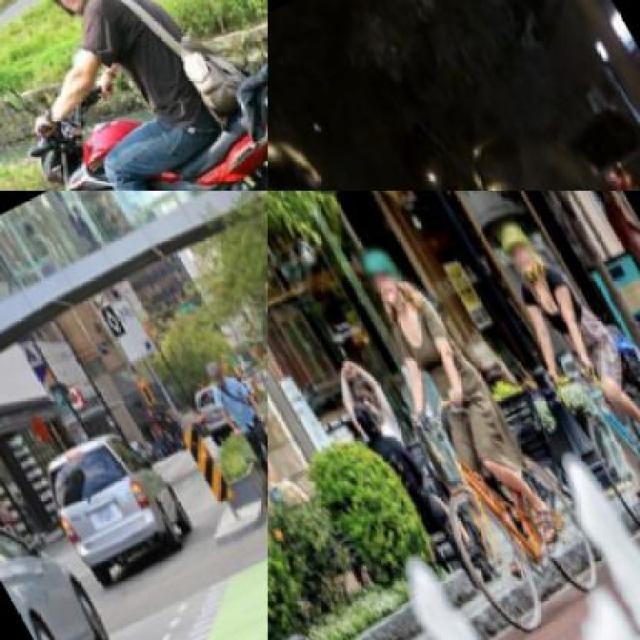With Helmet: (268, 122, 358, 189), (20, 0, 120, 34), (489, 208, 540, 272), (352, 234, 406, 294), (192, 351, 231, 392)
